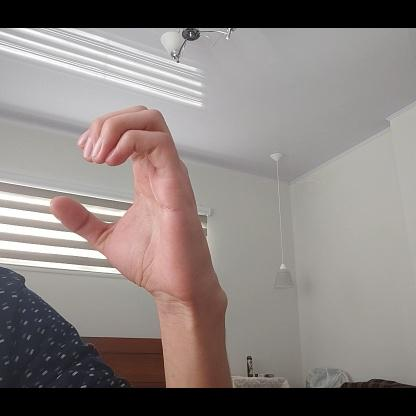C: (48, 104, 214, 293)
